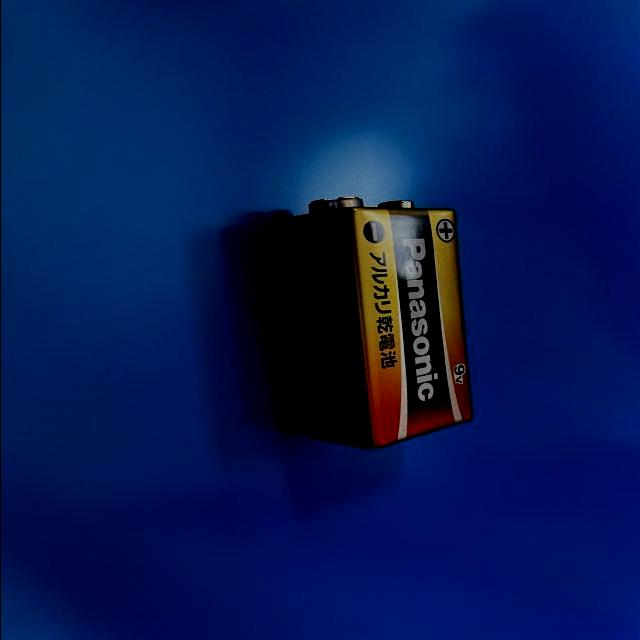9V: (277, 196, 474, 450)
